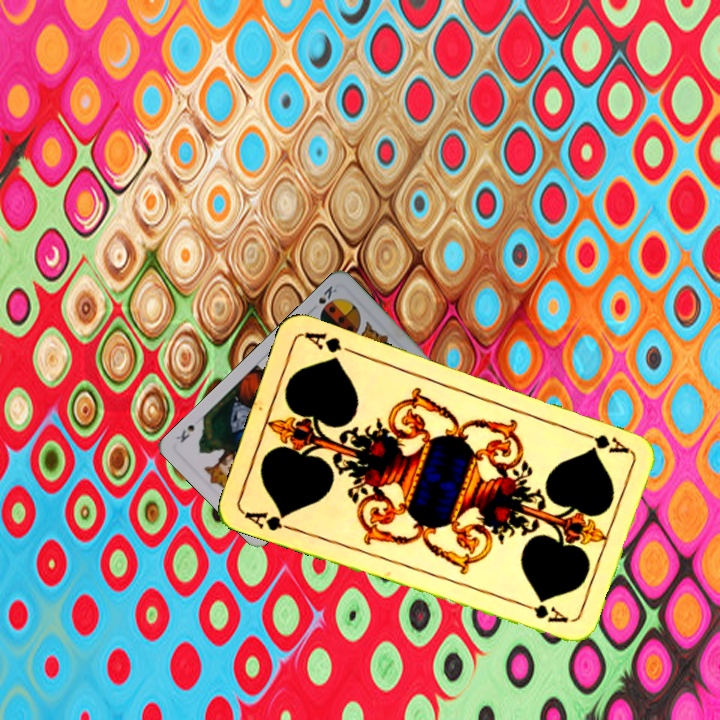GA: (574, 426, 631, 456), (240, 507, 298, 534)
SK: (314, 281, 339, 307)
